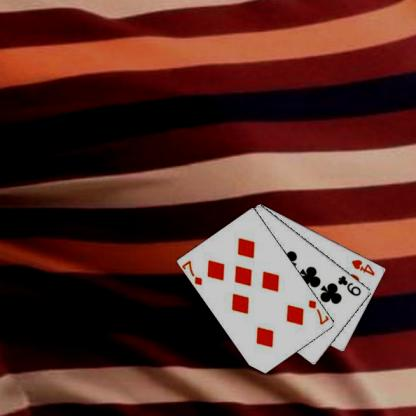4H: (349, 257, 377, 277)
7D: (180, 257, 204, 287), (306, 297, 329, 326)
9C: (335, 273, 363, 298)
